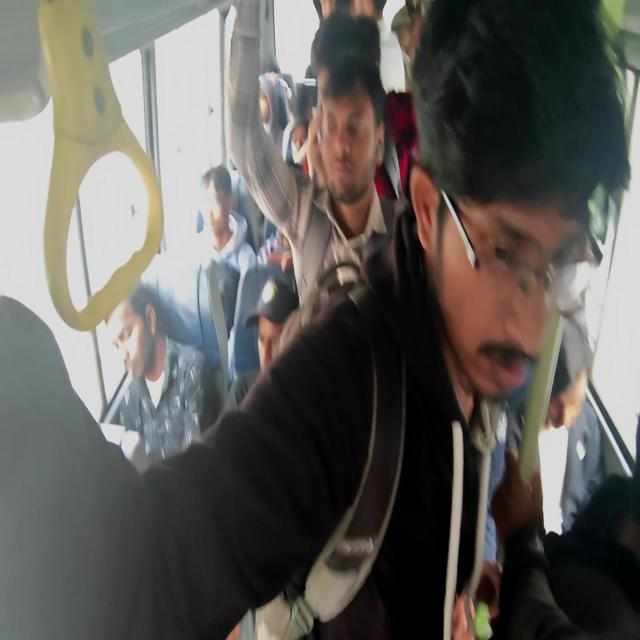person: (416, 24, 598, 406), (327, 69, 377, 195), (105, 300, 156, 381), (308, 17, 354, 102), (550, 327, 585, 430), (260, 293, 297, 380), (199, 170, 234, 230), (253, 78, 281, 140), (316, 0, 394, 19), (290, 119, 308, 169), (291, 81, 312, 120), (262, 54, 278, 76)
